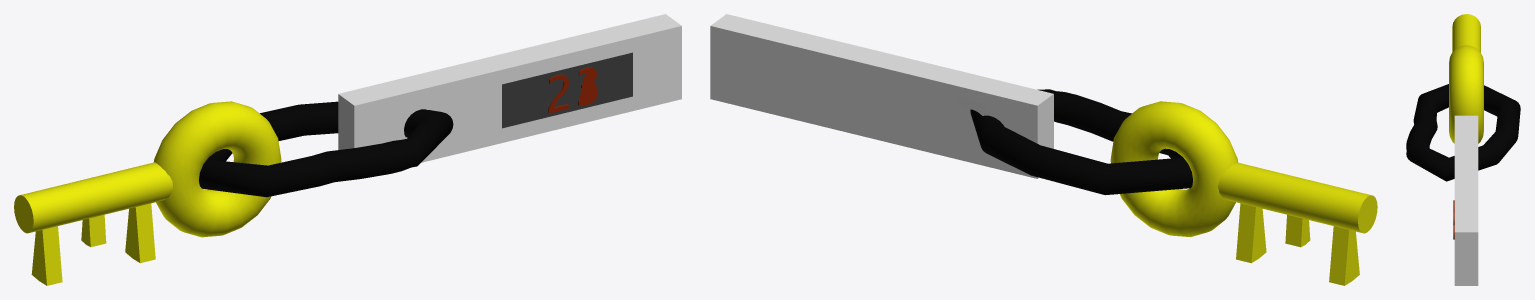
Rendered from KeyNumber23.fbx.
3 views of the same model, side by side, from view 1: azimuth 30°, elevation 25°; view 2: azimuth 150°, elevation 25°; view 3: azimuth 270°, elevation 25° (orthographic). The views are drawn at different scales.
Parts seen in each view (by area): view 1: KeyTag, String, KeyRing, KeyInsert, Numbers; view 2: KeyTag, KeyRing, KeyInsert, String; view 3: String, KeyTag, KeyRing, KeyInsert.
Boxes of the visible parts, x1,y1,x2,y2 form: KeyTag: [338, 14, 681, 162]; String: [199, 101, 453, 197]; KeyRing: [153, 101, 281, 237]; KeyInsert: [14, 162, 172, 285]; Numbers: [548, 67, 598, 113]; KeyTag: [710, 14, 1053, 178]; KeyRing: [1110, 101, 1238, 237]; KeyInsert: [1217, 162, 1377, 285]; String: [970, 89, 1192, 195]; String: [1406, 84, 1520, 181]; KeyTag: [1454, 115, 1478, 285]; KeyRing: [1449, 45, 1483, 143]; KeyInsert: [1452, 14, 1480, 52].
Size of the model in its own units: 42.74 by 8.41 by 8.92.
